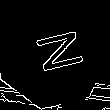N_W: (22, 29, 82, 80)
